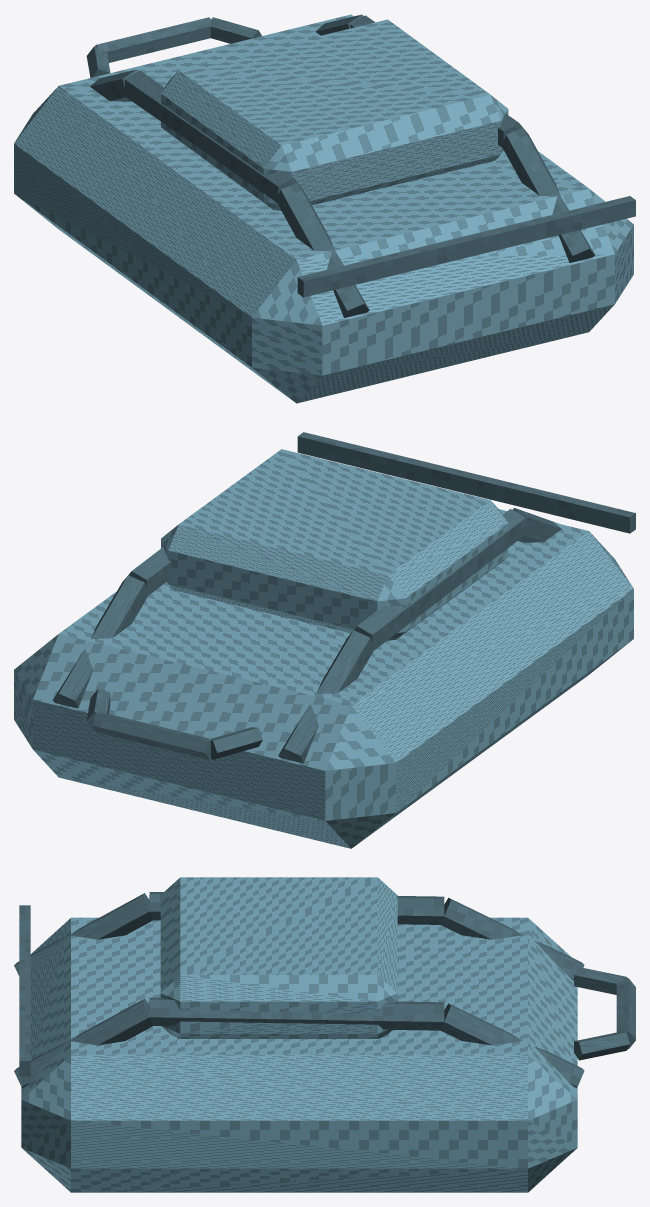
File: backpack_denim.glb
3 renders of one model, top to bottom at view 1: azimuth 30°, elevation 25°; view 2: azimuth 150°, elevation 25°; view 3: azimuth 270°, elevation 25°, orthographic. The views are drawn at different scales.
Parts seen in each view (by area): view 1: block_bag shell, block_front pocket, block_zipper, block_webbing strap 2 (×2), block_webbing strap 1 (×2), block_carry handle 1, block_carry handle 2, block_webbing strap 0, block_carry handle 0; view 2: block_bag shell, block_front pocket, block_zipper, block_webbing strap 0 (×2), block_webbing strap 1 (×2), block_carry handle 1, block_carry handle 0, block_webbing strap 2; view 3: block_bag shell, block_front pocket, block_webbing strap 1 (×2), block_webbing strap 2 (×2), block_webbing strap 0 (×2), block_zipper, block_carry handle 1, block_carry handle 2, block_carry handle 0.
Part boxes in pixels (x1,y1,x2,y2): block_bag shell: (14, 14, 633, 403); block_front pocket: (161, 19, 508, 210); block_zipper: (297, 196, 635, 297); block_webbing strap 2 (×2): (276, 127, 594, 317); block_webbing strap 1 (×2): (124, 15, 523, 203); block_carry handle 1: (95, 17, 210, 62); block_carry handle 2: (210, 17, 261, 43); block_webbing strap 0: (90, 69, 138, 101); block_carry handle 0: (86, 46, 110, 77); block_bag shell: (14, 509, 633, 848); block_front pocket: (161, 449, 508, 640); block_zipper: (297, 432, 635, 533); block_webbing strap 0 (×2): (53, 575, 374, 763); block_webbing strap 1 (×2): (128, 509, 525, 650); block_carry handle 1: (92, 713, 210, 759); block_carry handle 0: (211, 727, 262, 759); block_webbing strap 2: (512, 508, 561, 542); block_bag shell: (21, 917, 577, 1192); block_front pocket: (160, 877, 397, 1038); block_webbing strap 1 (×2): (149, 892, 444, 1030); block_webbing strap 2 (×2): (14, 893, 152, 1087); block_webbing strap 0 (×2): (440, 897, 584, 1087); block_zipper: (19, 905, 30, 1076); block_carry handle 1: (616, 978, 635, 1049); block_carry handle 2: (574, 1032, 629, 1060); block_carry handle 0: (574, 967, 627, 994).
Bounding box in the file's own units: 0.1717 × 0.0885 × 0.252.
Materials: 1 (1 with a texture image).
